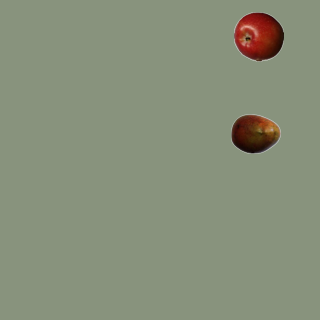Apple Braeburn: (233, 11, 283, 61)
Mango Red: (230, 108, 280, 158)
